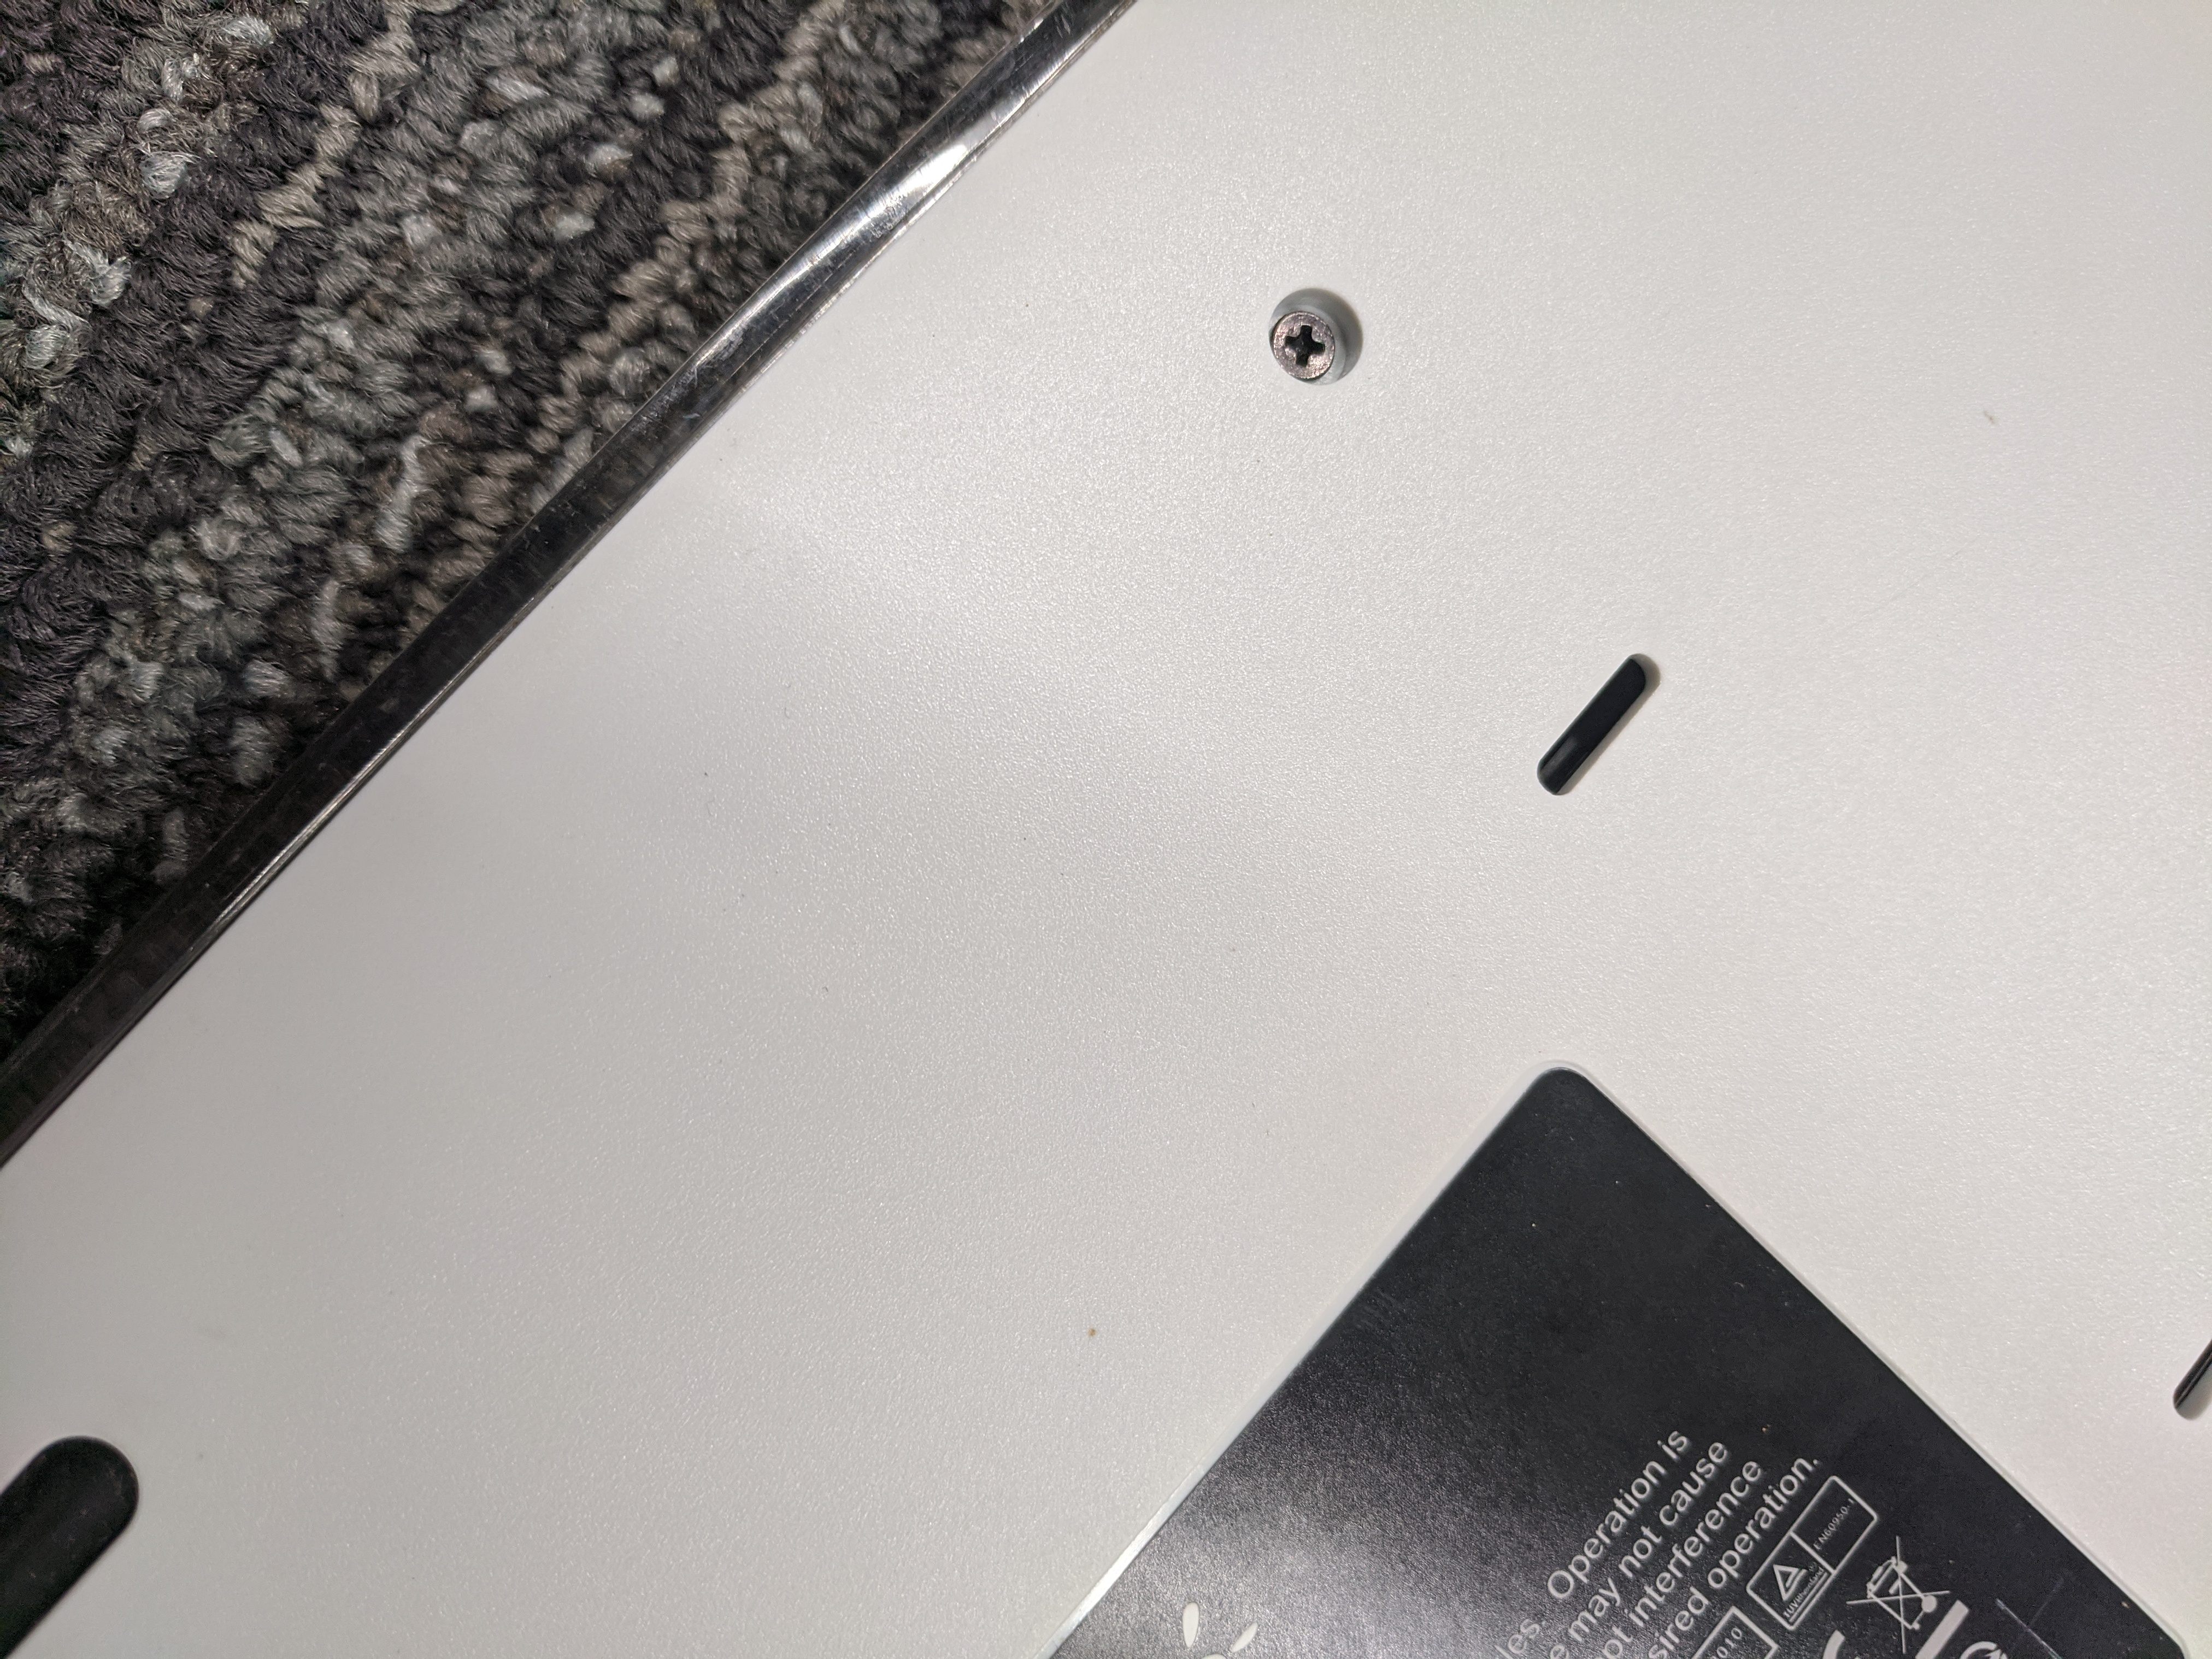cross_recessed_screw: (1264, 312, 1357, 375)
